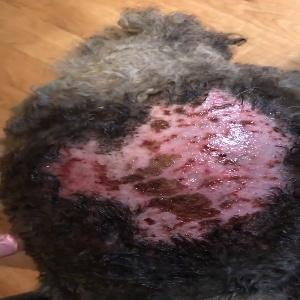skin_lesions: (38, 83, 299, 246)
